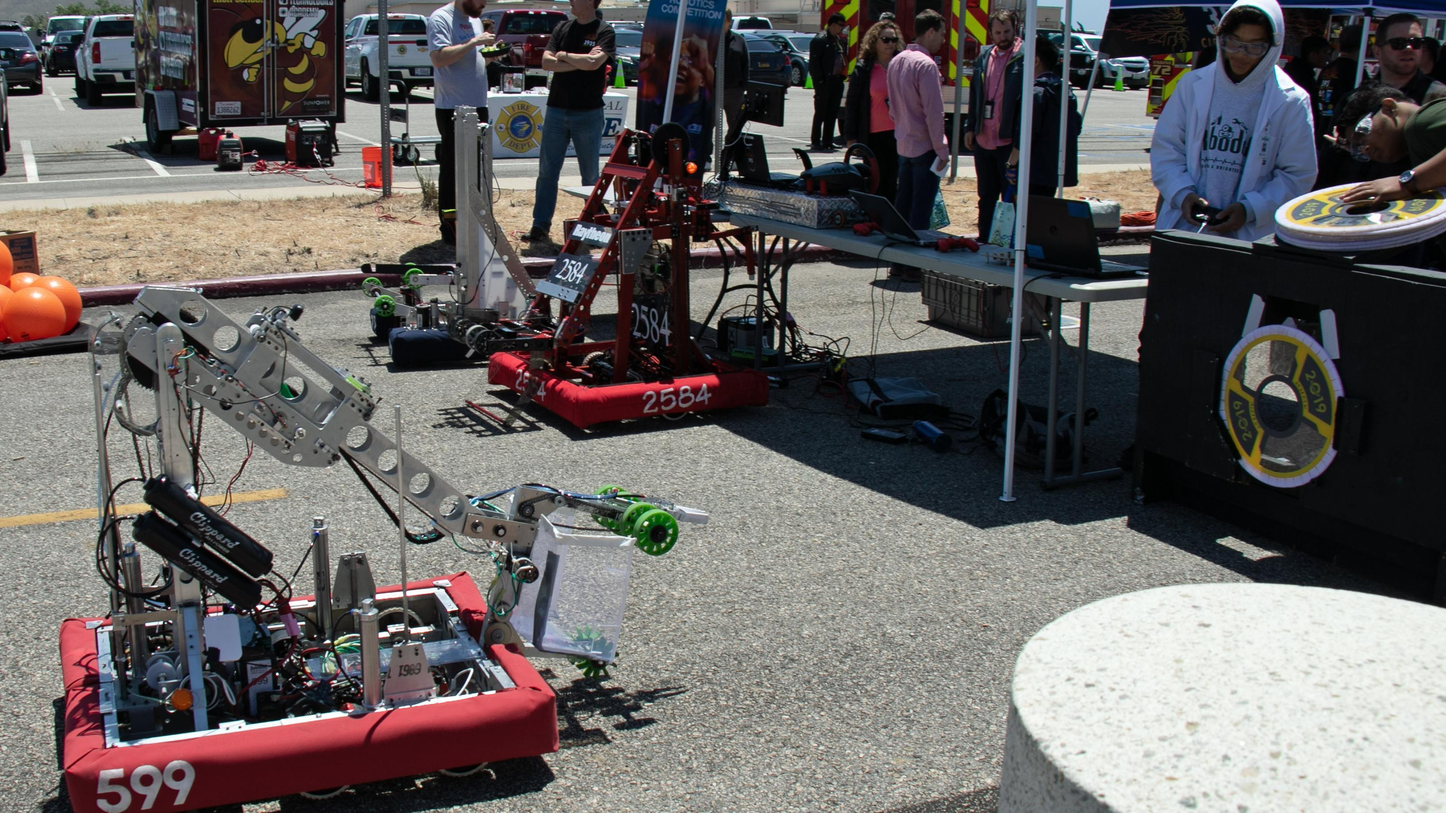robot: (35, 274, 714, 809), (476, 118, 805, 432), (363, 98, 553, 380)
